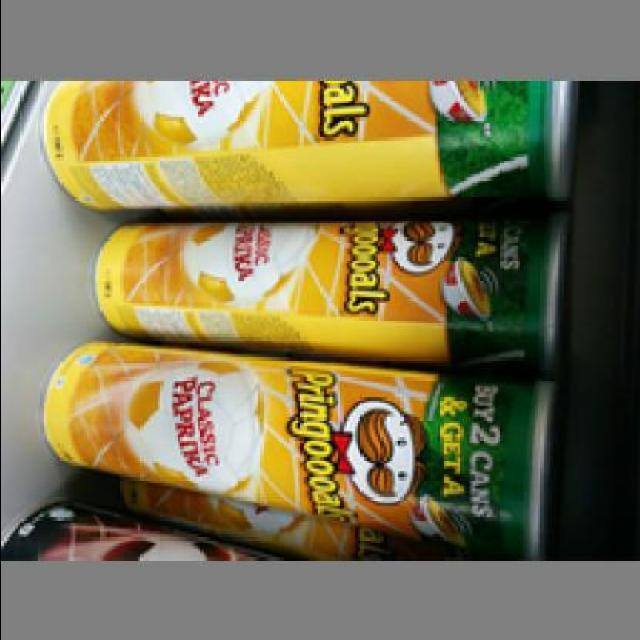Chips: (46, 343, 554, 537), (89, 217, 565, 360), (46, 80, 569, 206)
